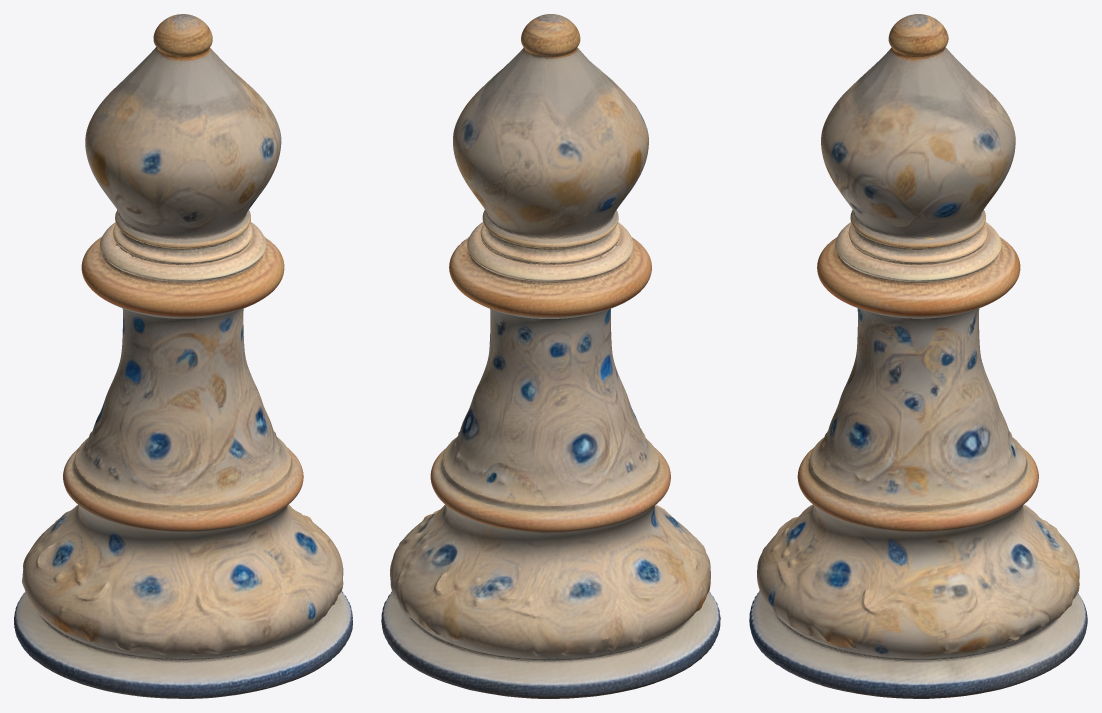
File: pawn_white.glb
The picture shows the model from 3 angles, left to right: view 1: azimuth 30°, elevation 25°; view 2: azimuth 150°, elevation 25°; view 3: azimuth 270°, elevation 25°; orthographic projection.
Parts seen in each view (by area): view 1: model; view 2: model; view 3: model.
Boxes of the visible parts, box(x1,y1,x2,y2) form: model: box(14, 14, 352, 698); model: box(381, 14, 720, 698); model: box(749, 14, 1087, 698).
Bounding box in the file's own units: 0.952 × 1.9 × 0.9501.
1 material, 1 textured.
